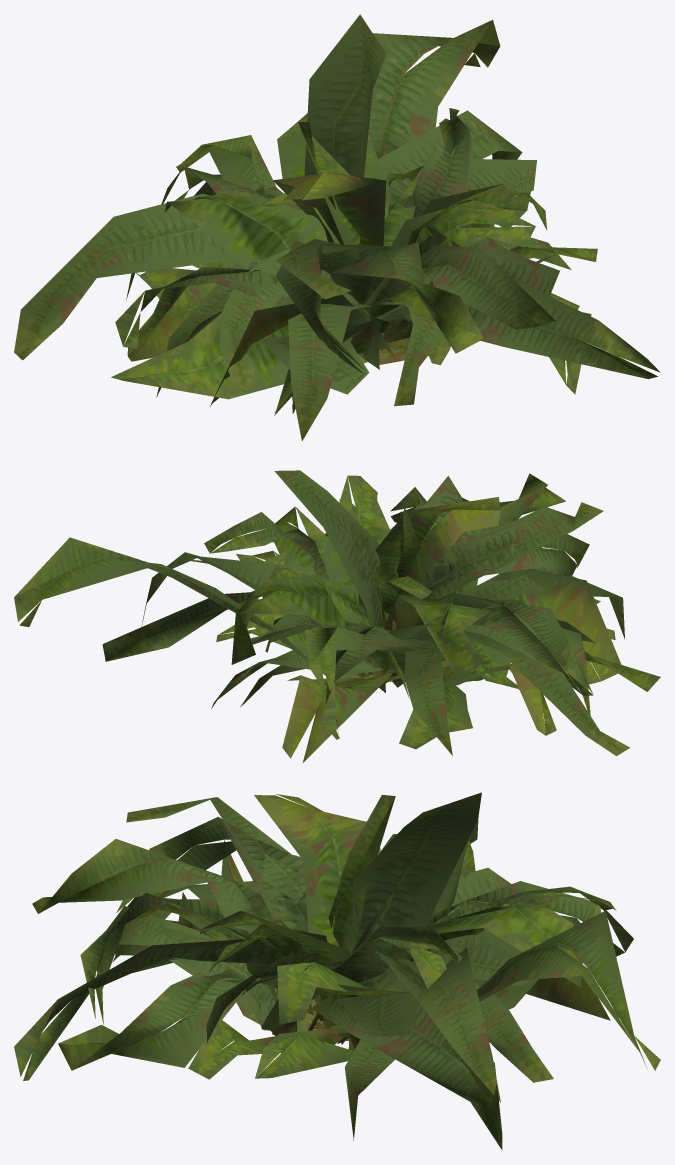
Rendered from ferns_lo.glb.
3 views of the same model, one above another, from view 1: azimuth 30°, elevation 25°; view 2: azimuth 150°, elevation 25°; view 3: azimuth 270°, elevation 25° (orthographic). The views are drawn at different scales.
Parts seen in each view (by area): view 1: fern_b_lo, fern_c_lo, fern_d_lo, fern_a_lo; view 2: fern_b_lo, fern_c_lo, fern_a_lo, fern_d_lo; view 3: fern_b_lo, fern_c_lo, fern_a_lo, fern_d_lo.
Part boxes in pixels (x1,y1,x2,y2): fern_b_lo: (14, 14, 660, 440); fern_c_lo: (111, 121, 591, 413); fern_d_lo: (136, 188, 579, 415); fern_a_lo: (199, 108, 559, 365); fern_b_lo: (14, 470, 629, 762); fern_c_lo: (102, 476, 660, 755); fern_a_lo: (204, 512, 519, 708); fern_d_lo: (264, 552, 615, 749); fern_b_lo: (14, 792, 660, 1140); fern_c_lo: (58, 795, 616, 1149); fern_a_lo: (112, 893, 553, 1082); fern_d_lo: (134, 903, 422, 1079).
Bounding box in the file's own units: 0.9838 × 0.4378 × 0.8846.
1 material, 1 textured.
